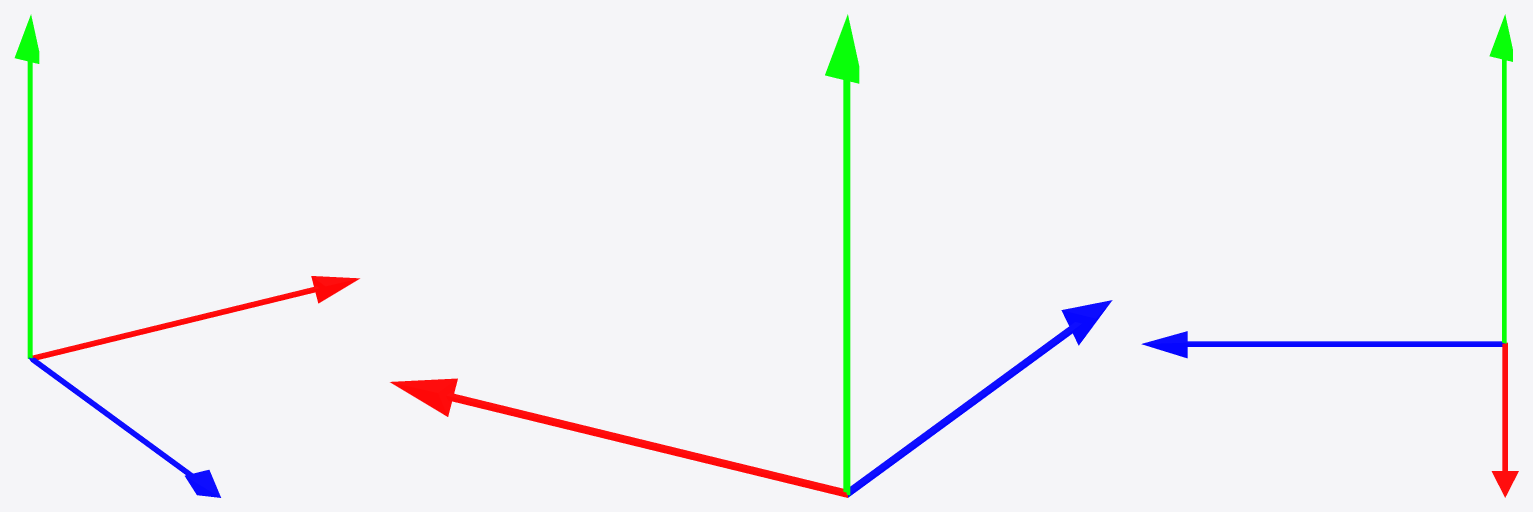
File: axes_01.glb
3 renders of one model, left to right at view 1: azimuth 30°, elevation 25°; view 2: azimuth 150°, elevation 25°; view 3: azimuth 270°, elevation 25°, orthographic. The views are drawn at different scales.
Visible parts, largest first — view 1: axis_combinded; view 2: axis_combinded; view 3: axis_combinded.
Part boxes in pixels (left/top/right/bottom): axis_combinded: left=14, top=14, right=359, bottom=497; axis_combinded: left=390, top=14, right=1112, bottom=497; axis_combinded: left=1141, top=14, right=1518, bottom=497.
Bounding box in the file's own units: 1.19 × 1.2 × 1.19.
